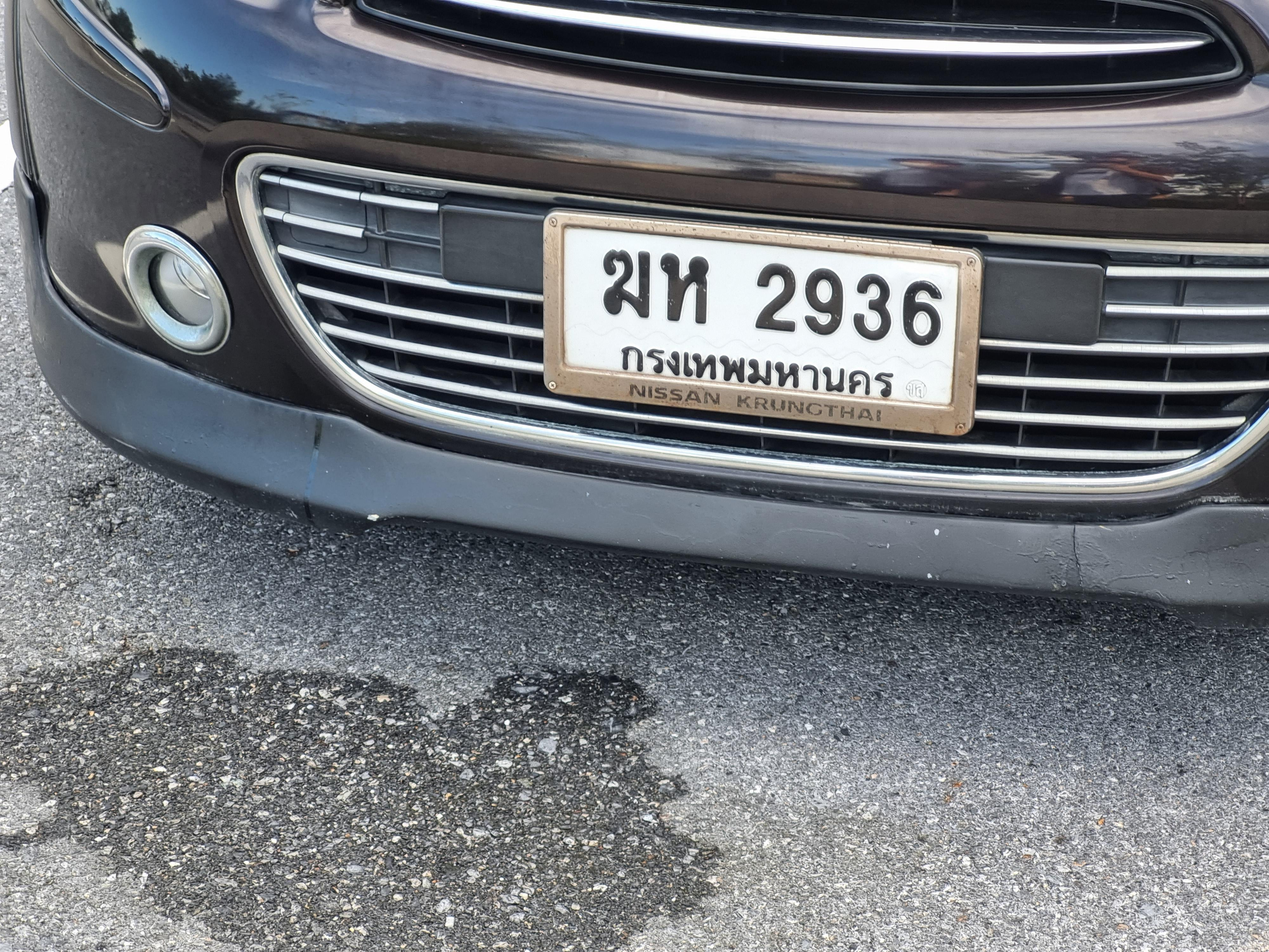license-plate: (538, 203, 985, 443)
